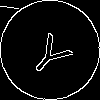Y: (25, 25, 80, 81)
